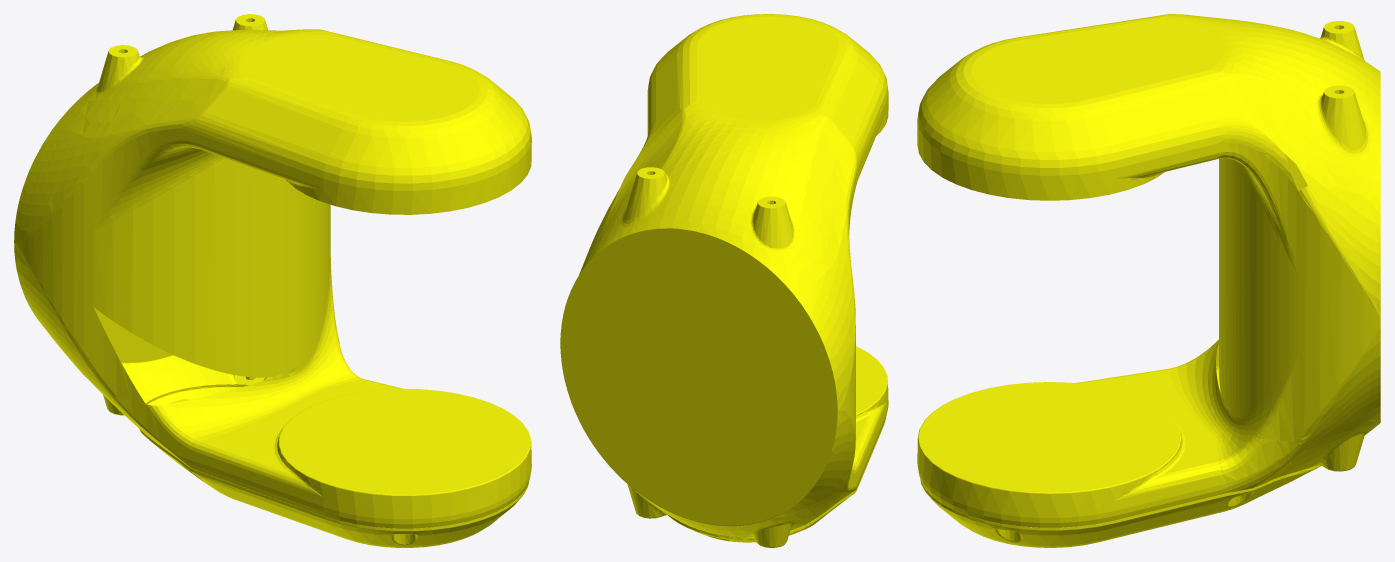
The picture shows the model from 3 angles, left to right: view 1: azimuth 30°, elevation 25°; view 2: azimuth 150°, elevation 25°; view 3: azimuth 270°, elevation 25°; orthographic projection. The views are drawn at different scales.
Parts seen in each view (by area): view 1: node; view 2: node; view 3: node.
Part boxes in pixels (bbox=[...]): node: bbox=[14, 14, 531, 547]; node: bbox=[560, 14, 888, 547]; node: bbox=[917, 14, 1380, 547].
Size of the model in its own units: 199 by 235 by 224.
